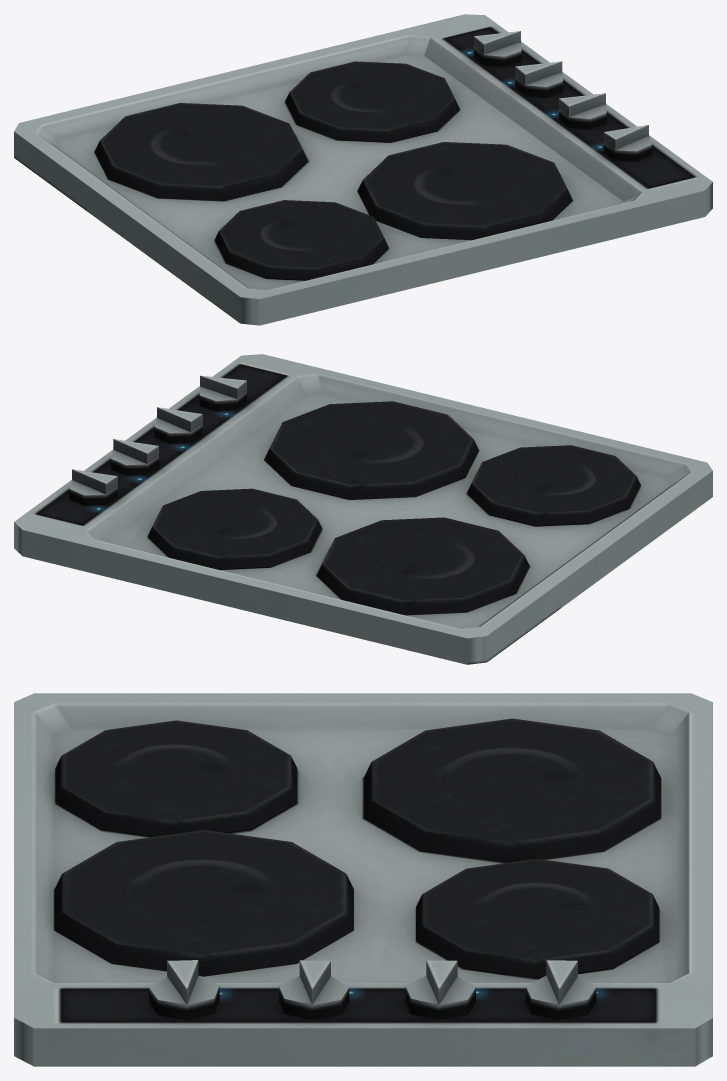
Rendered from Sun_0097_Cooker_hob.fbx.
3 views of the same model, one above another, from view 1: azimuth 30°, elevation 25°; view 2: azimuth 150°, elevation 25°; view 3: azimuth 270°, elevation 25° (orthographic). The views are drawn at different scales.
Parts seen in each view (by area): view 1: Sun_0097_Cooker_hob; view 2: Sun_0097_Cooker_hob; view 3: Sun_0097_Cooker_hob.
Boxes of the visible parts, left/top/right/bottom form: Sun_0097_Cooker_hob: left=14, top=14, right=712, bottom=325; Sun_0097_Cooker_hob: left=14, top=354, right=712, bottom=664; Sun_0097_Cooker_hob: left=14, top=693, right=712, bottom=1066.
Bounding box in the file's own units: 48.5 × 4.67 × 42.79.
